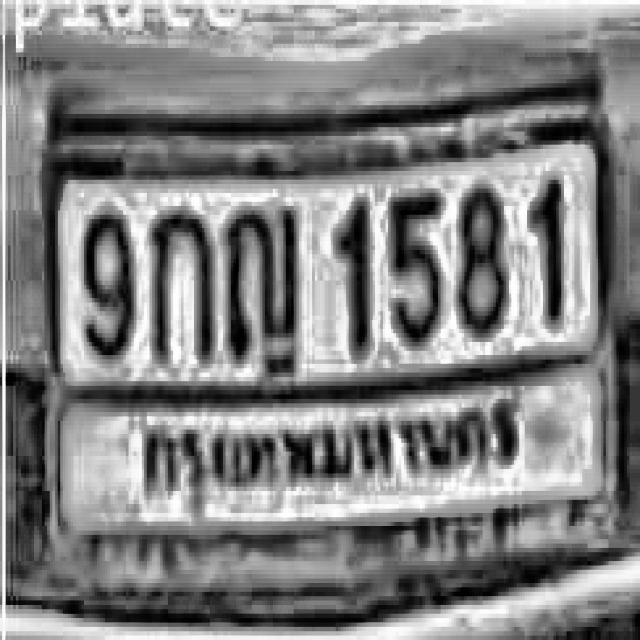license-plate: (41, 80, 634, 574)
